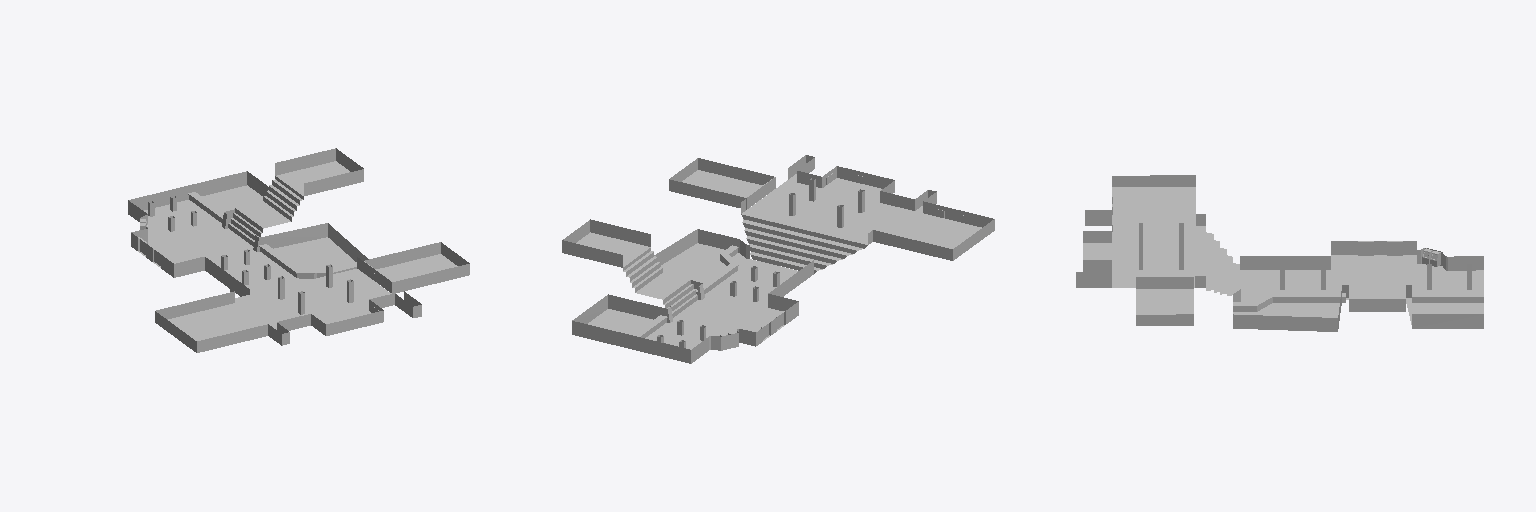
The picture shows the model from 3 angles: view 1: azimuth 30°, elevation 25°; view 2: azimuth 150°, elevation 25°; view 3: azimuth 270°, elevation 25°; orthographic projection.
Parts seen in each view (by area): view 1: home.js; view 2: home.js; view 3: home.js.
Boxes of the visible parts, <box> form: home.js: <box>128,148,469,352</box>; home.js: <box>562,155,994,363</box>; home.js: <box>1076,175,1483,331</box>.
Size of the model in its own units: 424 by 76.44 by 526.